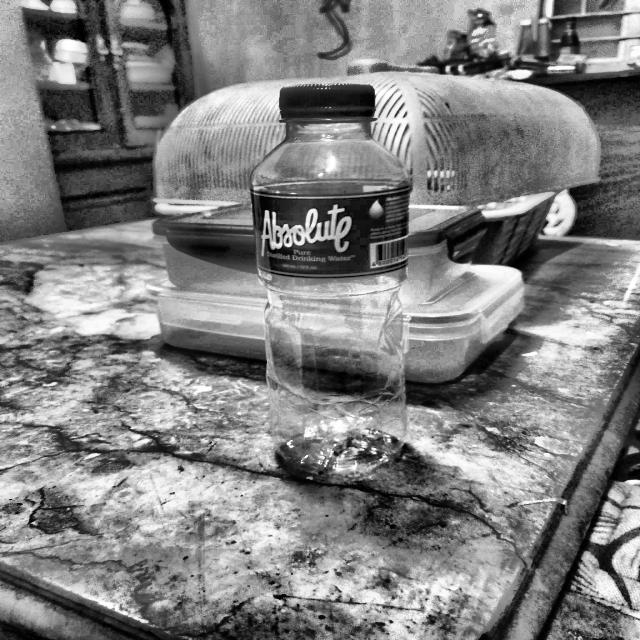Plastic-Bottle: (252, 76, 417, 488)
